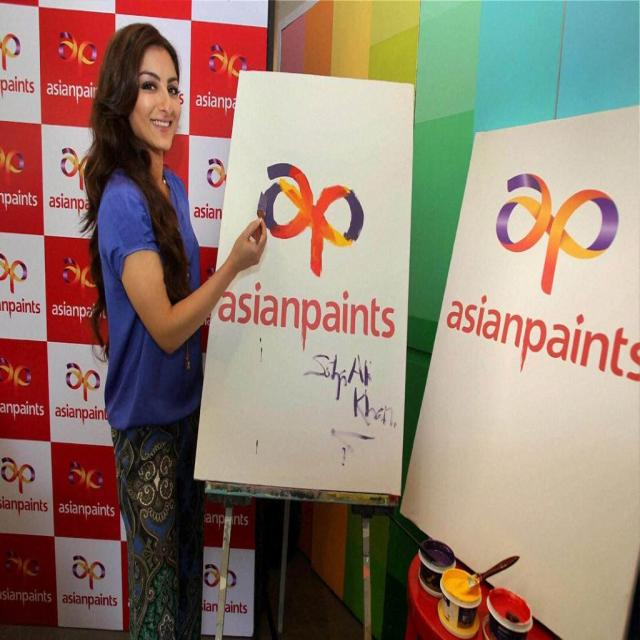Face: (119, 44, 190, 155)
